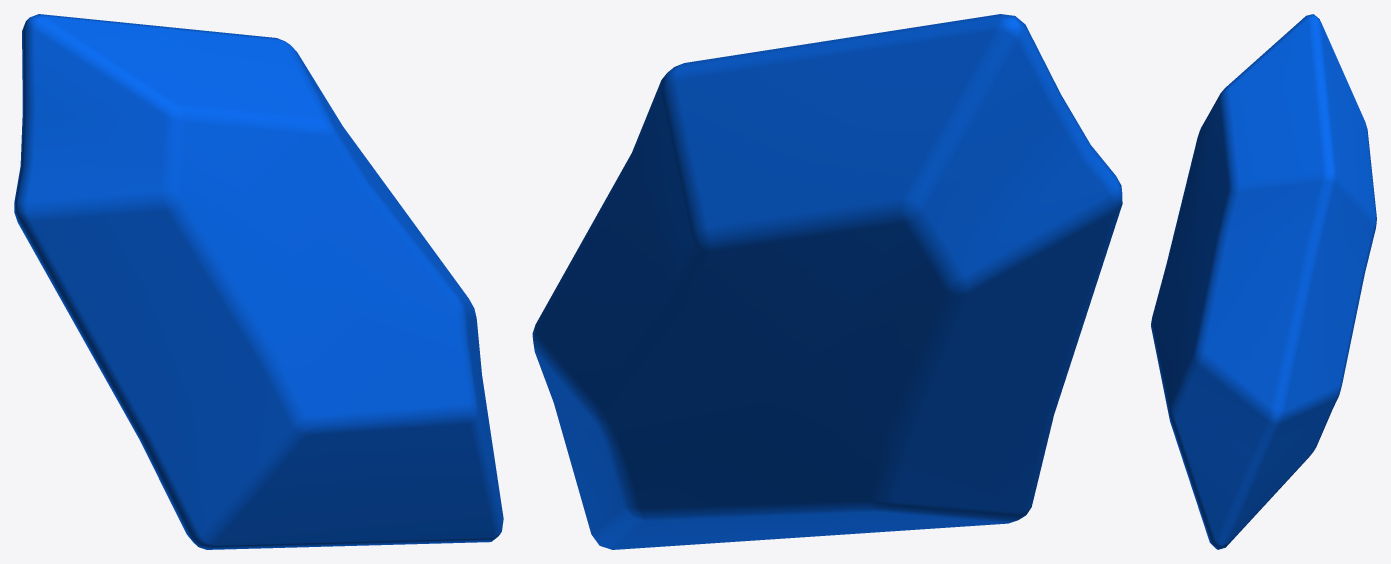
The picture shows the model from 3 angles, left to right: view 1: azimuth 30°, elevation 25°; view 2: azimuth 150°, elevation 25°; view 3: azimuth 270°, elevation 25°; orthographic projection. The views are drawn at different scales.
Visible parts, largest first — view 1: model_1.138; view 2: model_1.138; view 3: model_1.138.
Part boxes in pixels (box(x1,y1,x2,y2)): model_1.138: box(14, 14, 503, 549); model_1.138: box(532, 14, 1122, 549); model_1.138: box(1151, 14, 1376, 549).
Bounding box in the file's own units: 3.48 × 4.07 × 2.08.
